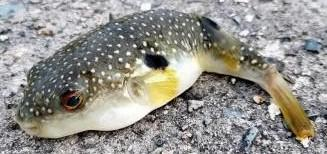fish: (14, 9, 314, 143)
